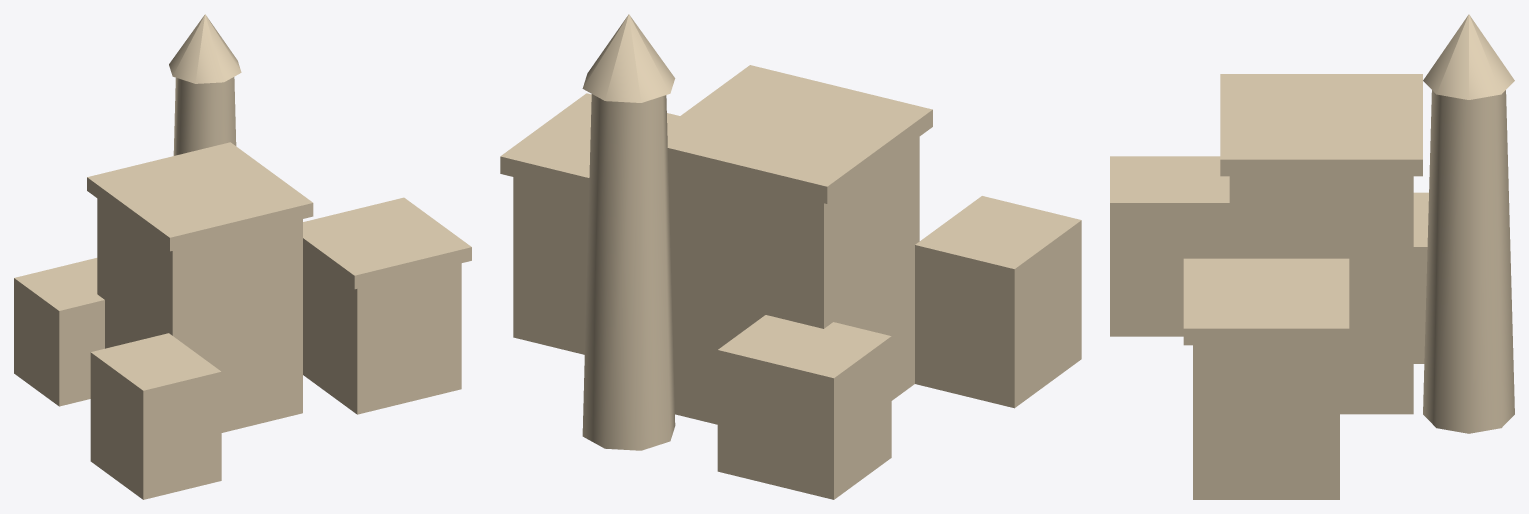
File: default-city.gltf
3 renders of one model, left to right at view 1: azimuth 30°, elevation 25°; view 2: azimuth 150°, elevation 25°; view 3: azimuth 270°, elevation 25°, orthographic. The views are drawn at different scales.
Size of the model in its own units: 2.75 by 2.4 by 2.2.
